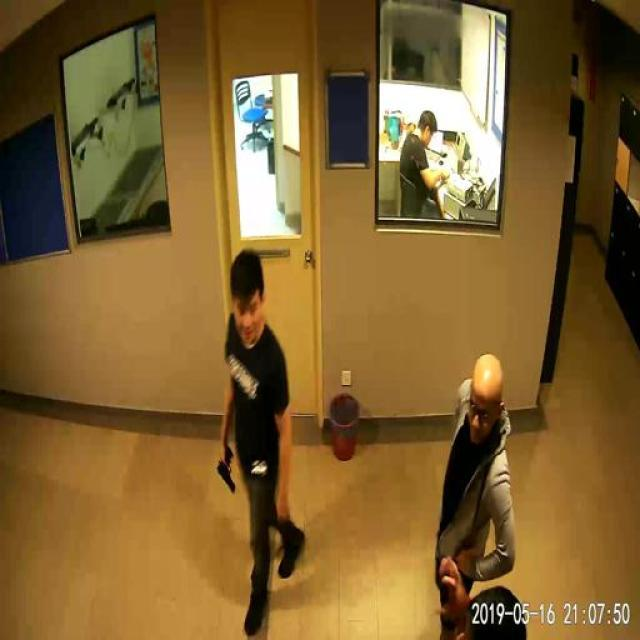Gun: (196, 441, 246, 494)
